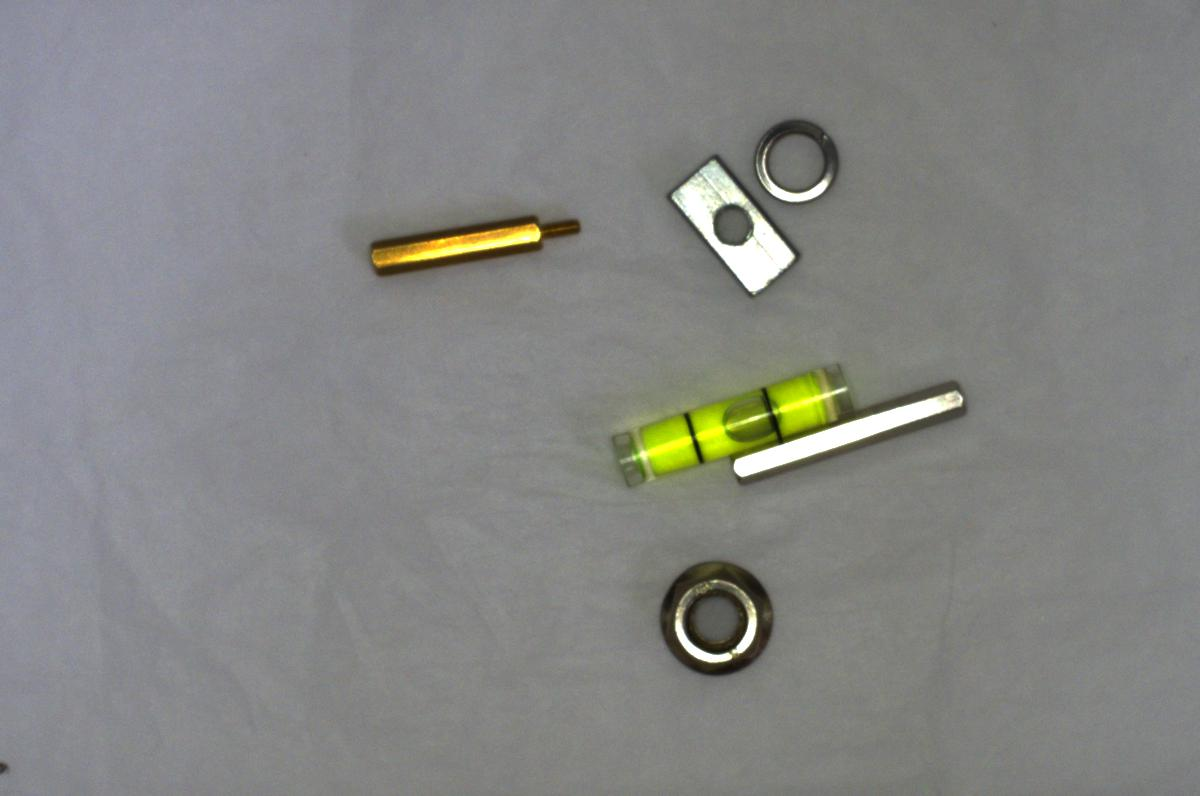Double hexagonal column: (732, 379, 975, 486)
Flange nut: (650, 547, 786, 681)
Hexagon pillar: (353, 202, 587, 283)
Horizontal bubble: (601, 350, 854, 492)
Rectangular nut: (658, 156, 811, 302)
Spring washer: (750, 114, 842, 208)
